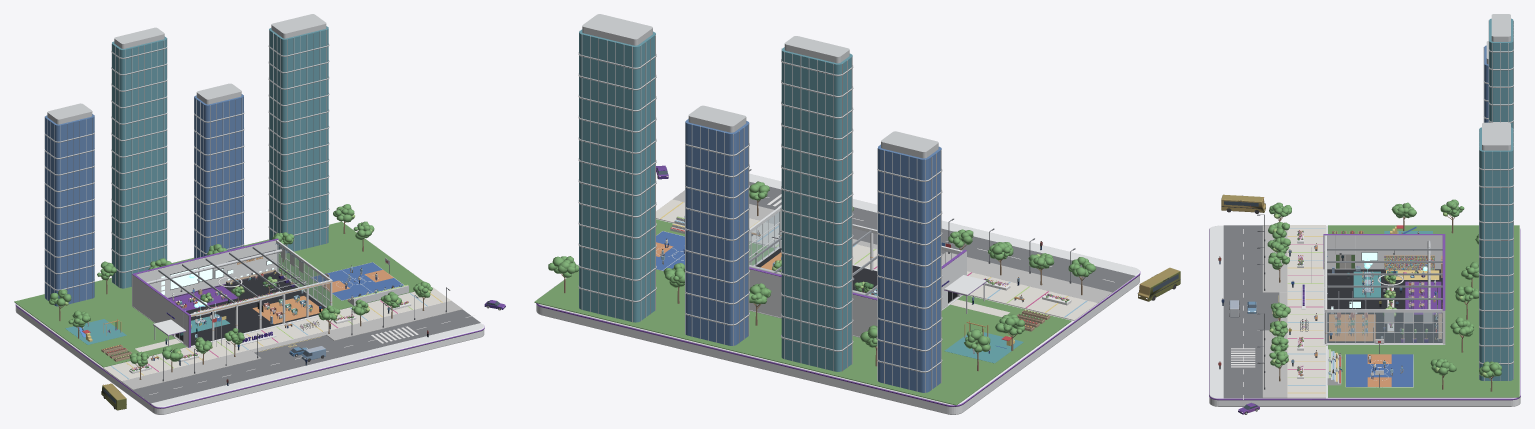
The model's file is smart_learning.glb.
3 views of the same model, side by side, from view 1: azimuth 30°, elevation 25°; view 2: azimuth 150°, elevation 25°; view 3: azimuth 270°, elevation 25° (orthographic). The views are drawn at different scales.
Visible parts, largest first — view 1: bake-static_site, bake-static_building, vbake-static_site, vbake-static_building, glass-static_building-glass, bake-hot-assessment, bake-hot-ai-learning, schoolbus; view 2: bake-static_site, vbake-static_site, bake-static_building, glass-static_building-glass, schoolbus; view 3: bake-static_site, bake-static_building, vbake-static_site, glass-static_building-glass, vbake-static_building, bake-hot-assessment, bake-hot-ai-learning, schoolbus, bake-hot-cloud-lms, bake-hot-iot-classrooms, vbake-hot-assessment, vbake-hot-ai-learning.
Boxes of the visible parts, box(x1,y1,x2,y2) form: bake-static_site: box(14, 14, 484, 414); bake-static_building: box(132, 238, 332, 347); vbake-static_site: box(49, 204, 474, 394); vbake-static_building: box(156, 244, 331, 330); glass-static_building-glass: box(277, 244, 329, 307); bake-hot-assessment: box(252, 296, 322, 324); bake-hot-ai-learning: box(169, 264, 238, 310); schoolbus: box(101, 383, 126, 410); bake-static_site: box(534, 14, 1140, 414); vbake-static_site: box(548, 169, 1114, 371); bake-static_building: box(749, 206, 966, 338); glass-static_building-glass: box(749, 212, 779, 265); schoolbus: box(1137, 267, 1180, 301); bake-static_site: box(1209, 14, 1520, 406); bake-static_building: box(1323, 234, 1445, 345); vbake-static_site: box(1231, 199, 1501, 399); glass-static_building-glass: box(1327, 313, 1442, 342); vbake-static_building: box(1325, 241, 1442, 343); bake-hot-assessment: box(1329, 314, 1375, 341); bake-hot-ai-learning: box(1405, 281, 1441, 314); schoolbus: box(1221, 194, 1265, 213); bake-hot-cloud-lms: box(1353, 252, 1380, 297); bake-hot-iot-classrooms: box(1377, 275, 1432, 323); vbake-hot-assessment: box(1330, 301, 1374, 341); vbake-hot-ai-learning: box(1408, 279, 1436, 308).
Size of the model in its own units: 101 by 61.36 by 64.08.
